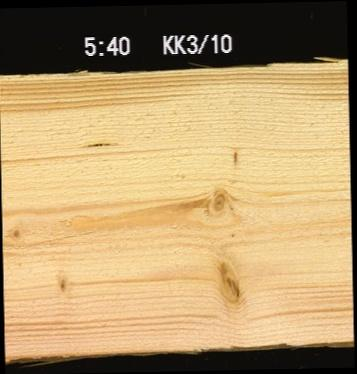small_knot: (57, 274, 68, 292), (10, 224, 20, 237), (231, 148, 237, 164)
sound_knot: (215, 254, 242, 303), (206, 188, 230, 213)
wave: (192, 340, 353, 348)
